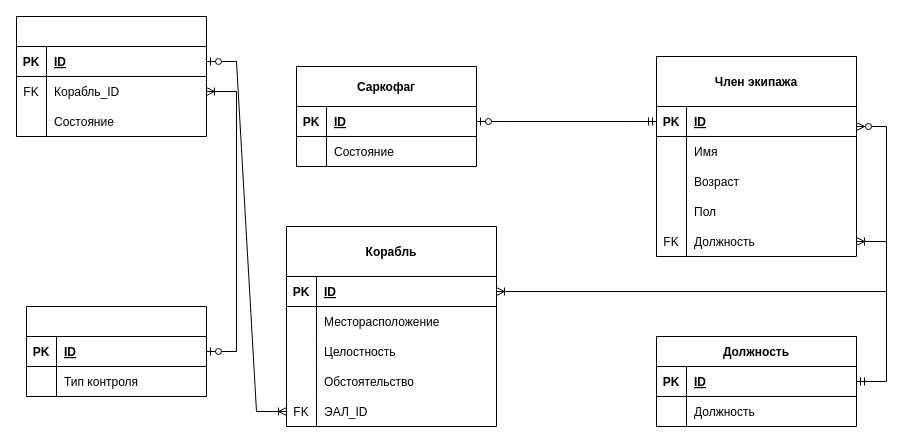
This 903x443 diagram has some shape labels left out. The box of each missing label's shape, as (x1, y1, x2, y2) in pixels:
Контроль: (26, 306, 206, 396)
ЭАЛ: (16, 16, 206, 136)
